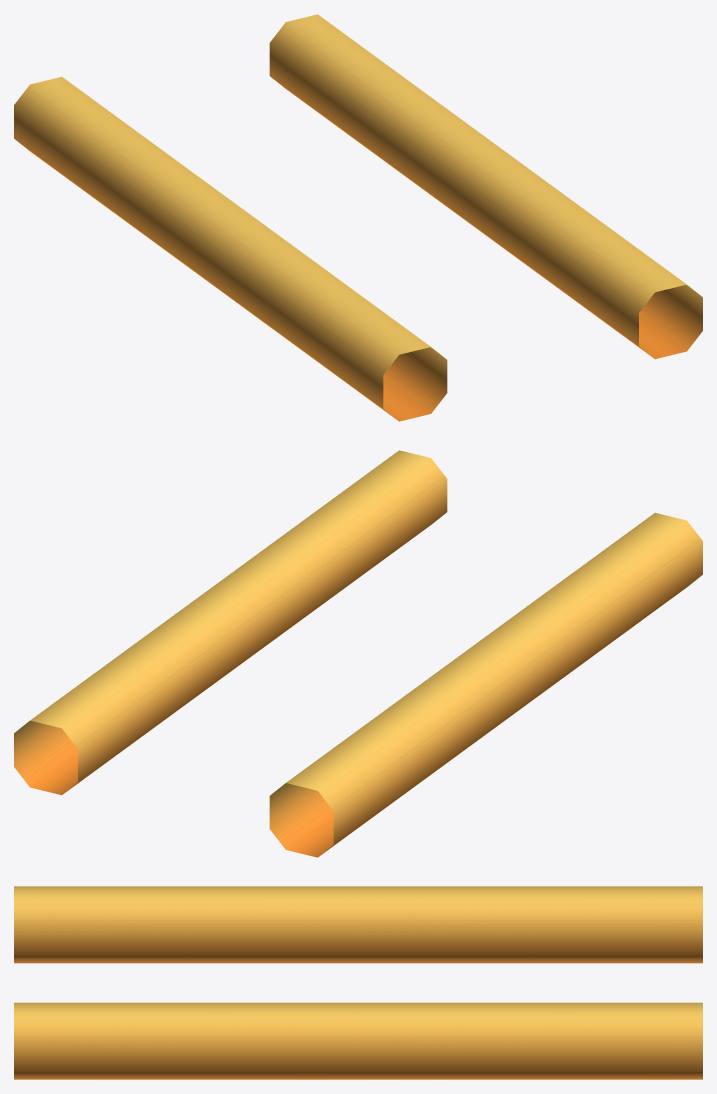
The model's file is coaster-mouse-track.glb.
3 views of the same model, one above another, from view 1: azimuth 30°, elevation 25°; view 2: azimuth 150°, elevation 25°; view 3: azimuth 270°, elevation 25° (orthographic). The views are drawn at different scales.
Parts seen in each view (by area): view 1: coaster-mouse-track; view 2: coaster-mouse-track; view 3: coaster-mouse-track.
Boxes of the visible parts, left/top/right/bottom form: coaster-mouse-track: left=14, top=14, right=702, bottom=421; coaster-mouse-track: left=14, top=450, right=702, bottom=857; coaster-mouse-track: left=14, top=886, right=702, bottom=1079.
Bounding box in the file's own units: 0.5 × 0.1 × 1.
Materials: 1 (1 with a texture image).
